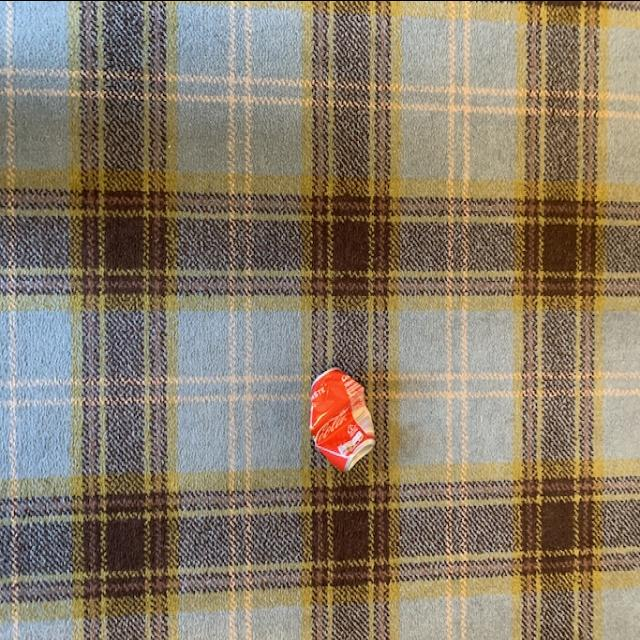Aluminum Can: (302, 363, 378, 475)
